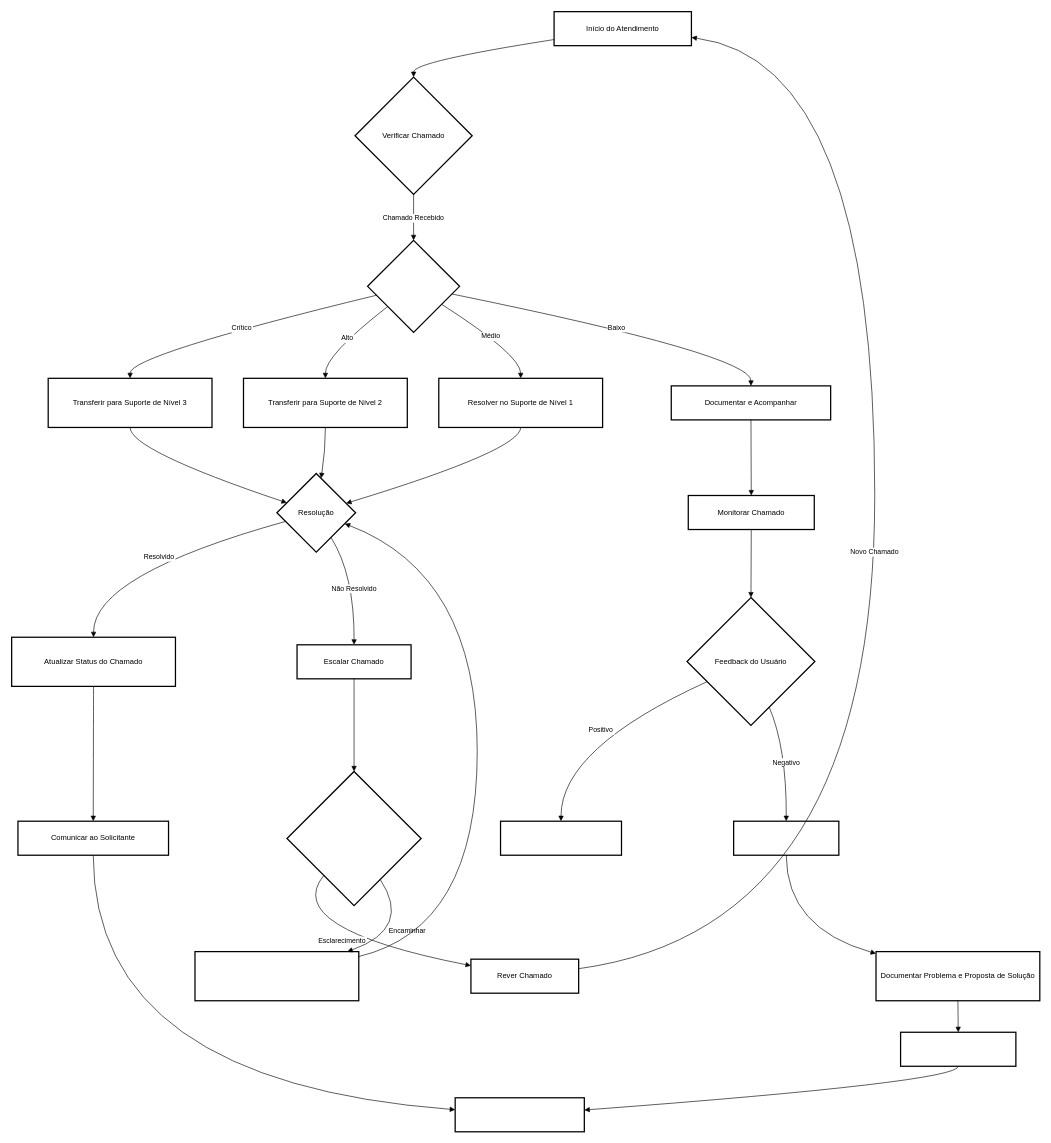
Image size: 1051x1143. Some labels were removed from this diagram. Each missing label, with the centre of its shape:
"Classificação" belongs at point (413, 286).
"Contramedidas" belongs at point (786, 838).
"Encerrar Chamado" belongs at point (561, 838).
"Escalonar para Nível 3" belongs at point (353, 838).
"Fim do Atendimento" belongs at point (519, 1114).
"Revisar Processos" belongs at point (958, 1049).
"Transferir a Outro Especialista" belongs at point (276, 976).
